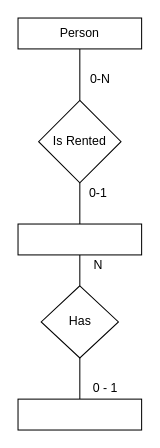
The diagram is 160 pixels wide and 448 high, and some of its shapes have lost their labels. The centre of each missing label's shape, as x and y in pixels:
"Company" belongs at pixel 79 414.
"House" belongs at pixel 79 239.
